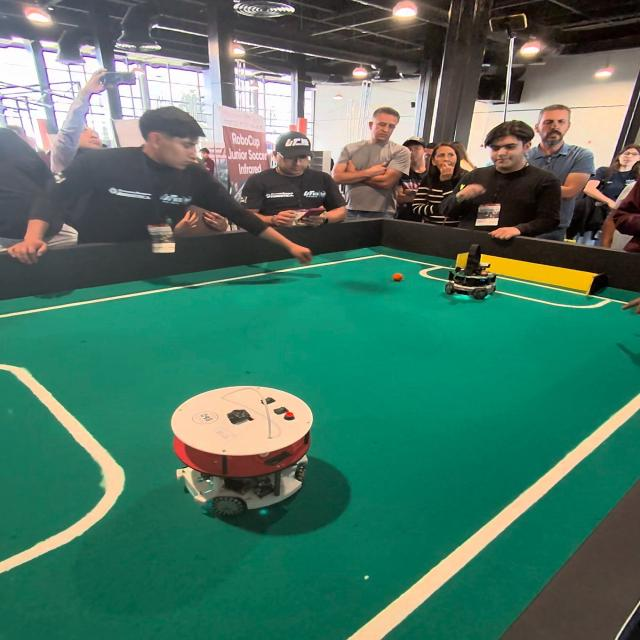Robot: (170, 370, 322, 533), (447, 244, 502, 308)
pelota: (392, 272, 402, 282)
